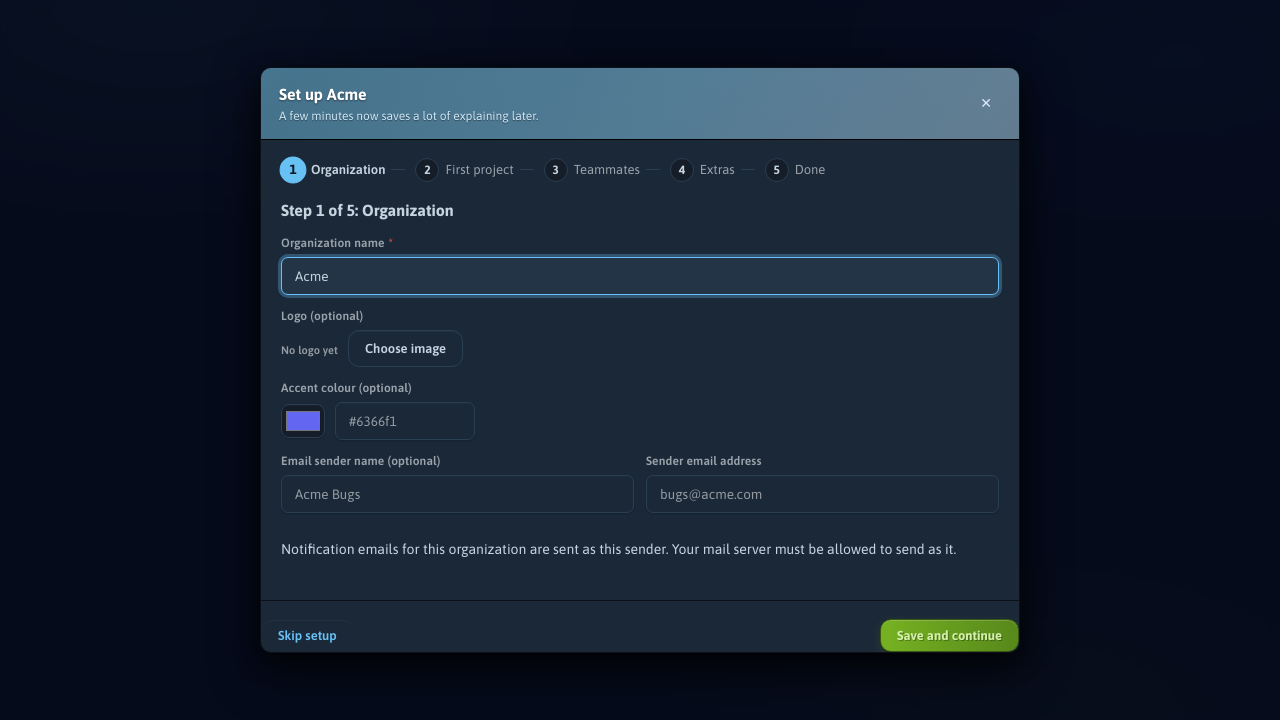
Test: SetupWizard › shows a server error and stays on the step
Click the button "Save and continue" at (950, 636), box [880,619,1019,652]
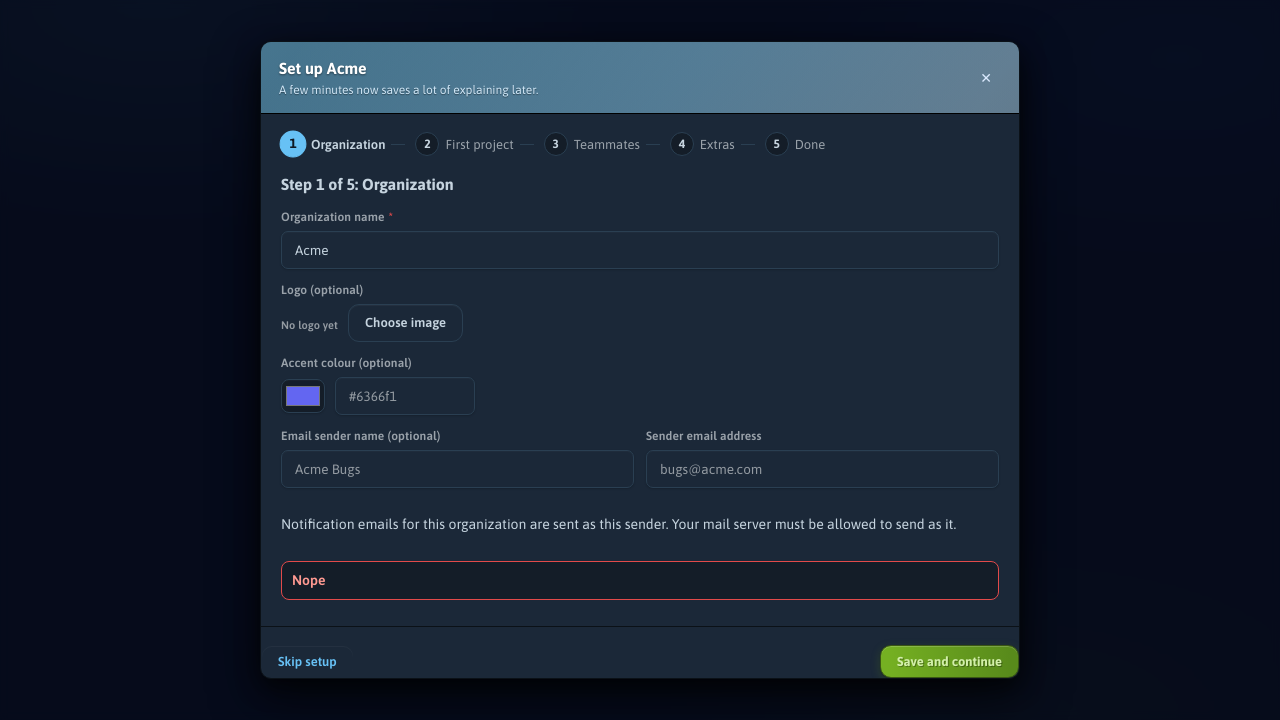
Expected: the message reads "Nope", [292,572,326,588]
